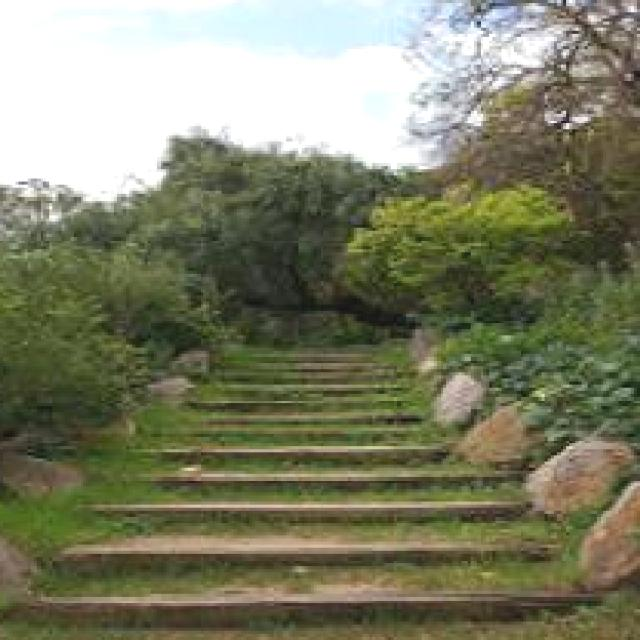upstair: (38, 423, 567, 614)
